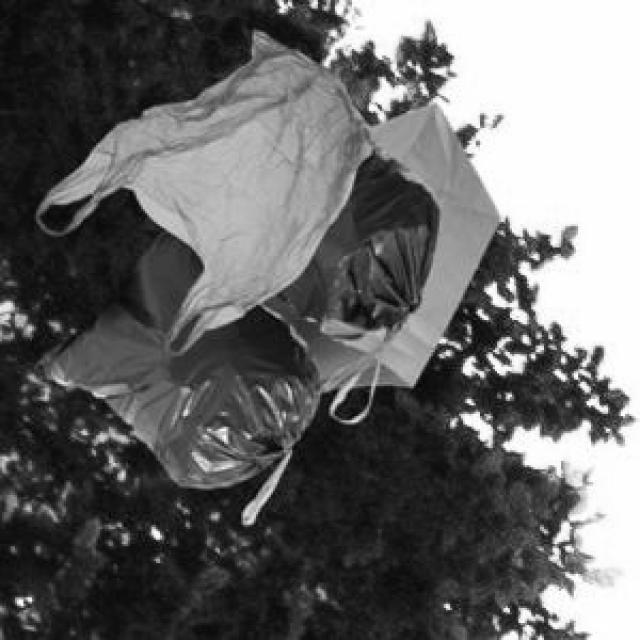miscellaneous trash: (32, 143, 435, 521)
paper: (256, 100, 495, 384)
